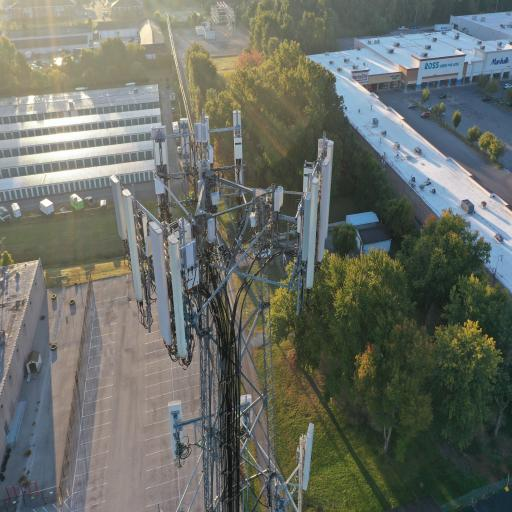supporting_tower: (110, 110, 335, 512)
